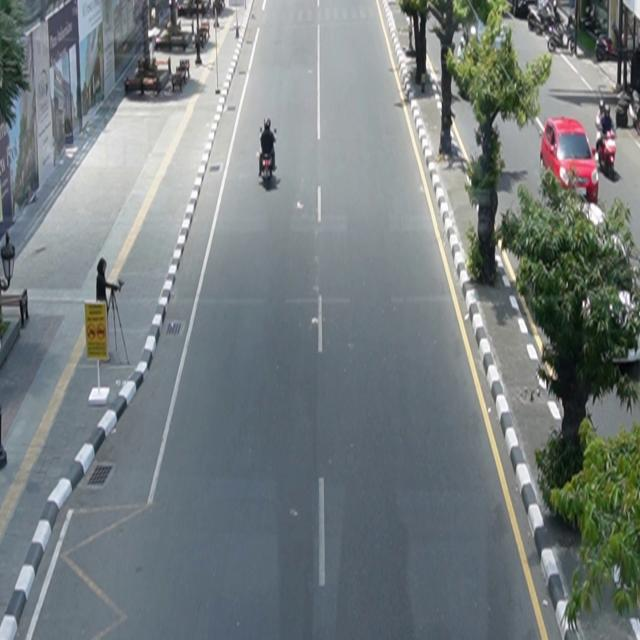car: (541, 117, 600, 204)
